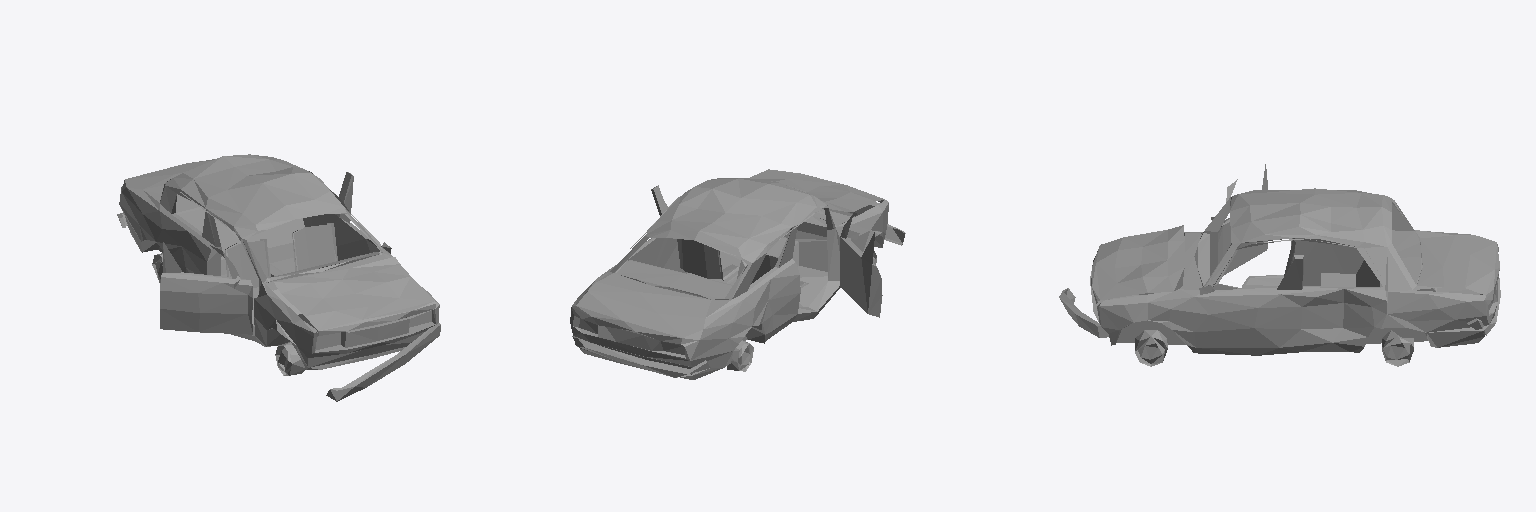
The model's file is car_scrap.obj.
The picture shows the model from 3 angles: view 1: azimuth 30°, elevation 25°; view 2: azimuth 150°, elevation 25°; view 3: azimuth 270°, elevation 25°; orthographic projection.
Bounding box in the file's own units: 4.93 × 2.84 × 8.94.